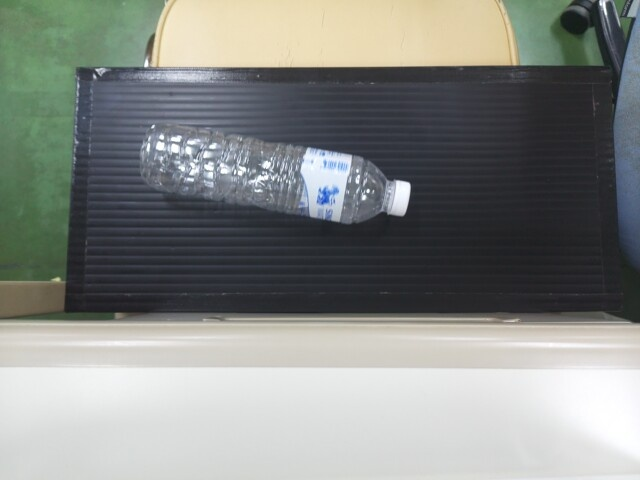plastic_bottle: (135, 127, 411, 226)
